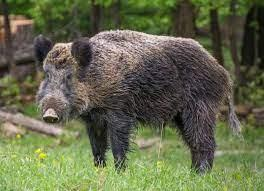wildboar: (33, 28, 244, 175)
